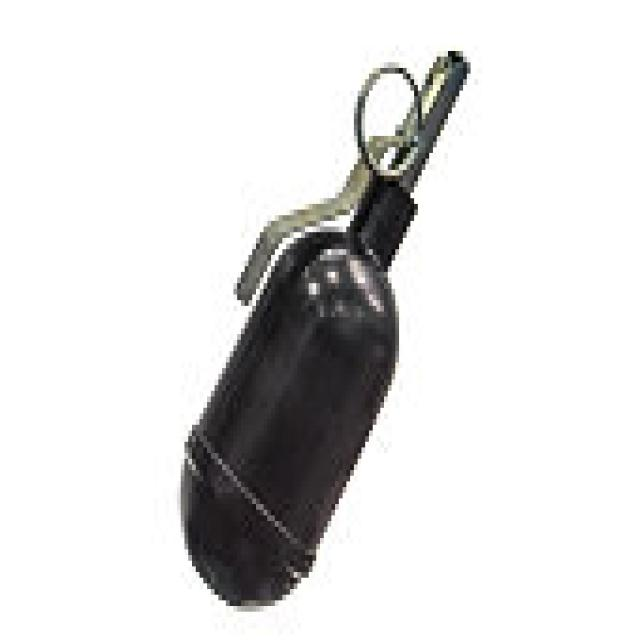grenade: (174, 36, 474, 625)
